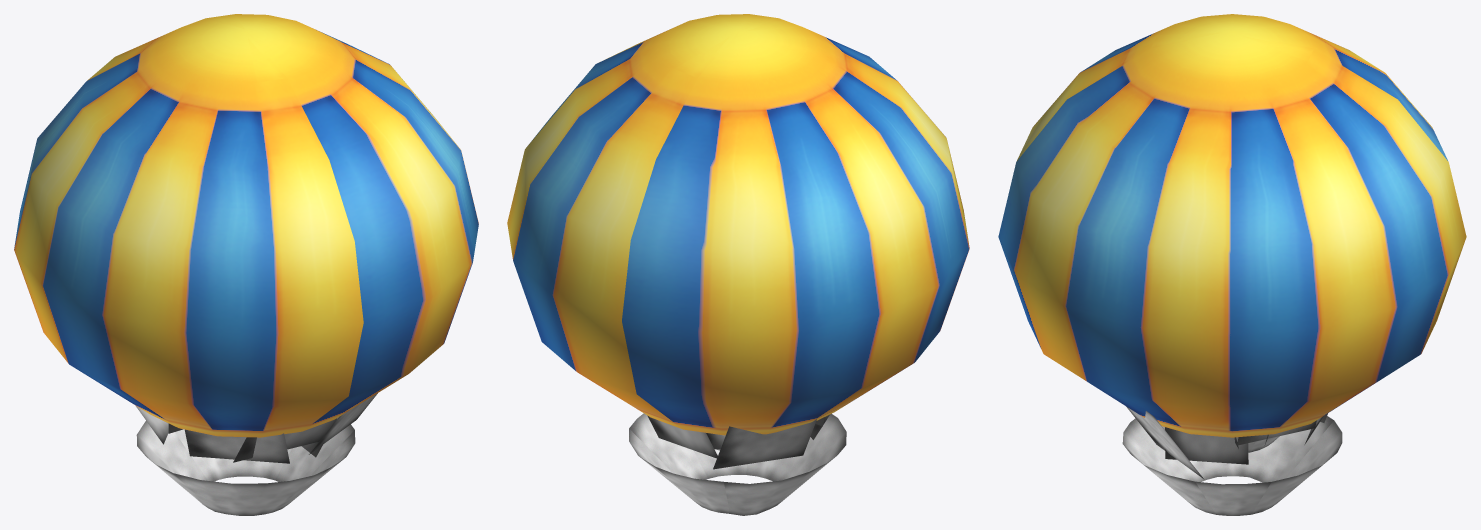
File: a_SWAball02_01.glb
3 views of the same model, side by side, from view 1: azimuth 30°, elevation 25°; view 2: azimuth 150°, elevation 25°; view 3: azimuth 270°, elevation 25° (orthographic).
Parts seen in each view (by area): view 1: a_SWAball02_01; view 2: a_SWAball02_01; view 3: a_SWAball02_01.
Boxes of the visible parts, box(x1,y1,x2,y2) form: a_SWAball02_01: box(14, 14, 478, 515); a_SWAball02_01: box(507, 14, 969, 515); a_SWAball02_01: box(998, 14, 1466, 515).
Size of the model in its own units: 3.03 by 3.33 by 3.03.
4 materials, 4 textured.
